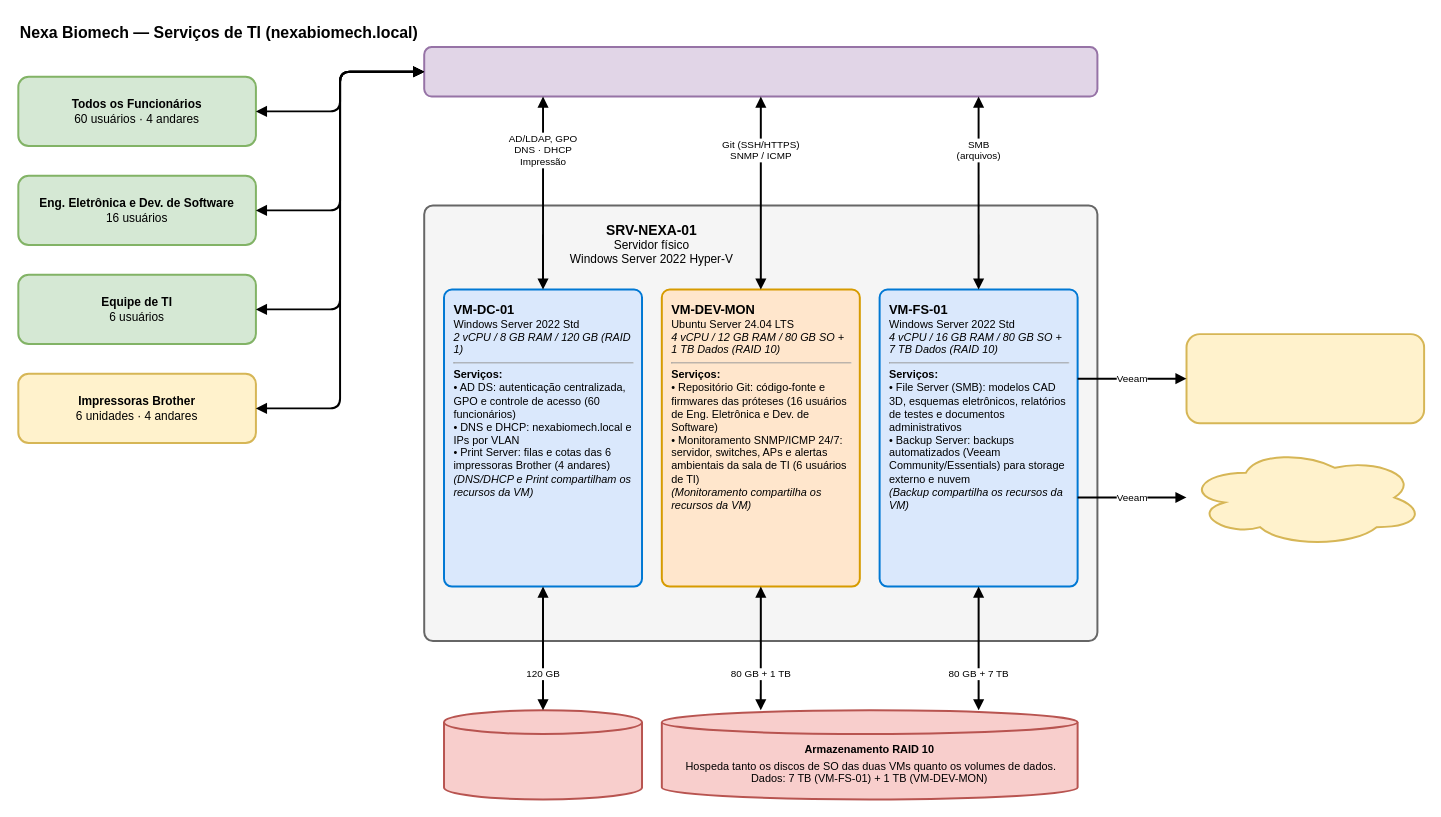
Image size: 1441x817. Some labels were removed from this diagram. Each missing label, with the box of its shape:
Armazenamento RAID 1 Disco do AD: 120 GB (VM-DC-01): (443, 709, 643, 800)
Nuvem (cópia de backup): (1185, 446, 1425, 547)
Rede LAN — switches e APs (VLANs): (423, 46, 1098, 97)
Storage externo (cópia de backup): (1185, 333, 1425, 424)
